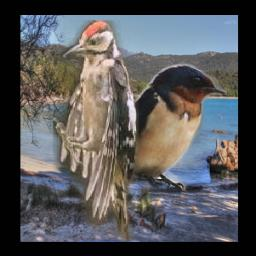Swallow: (91, 65, 226, 193)
Woodpecker: (52, 21, 138, 242)
